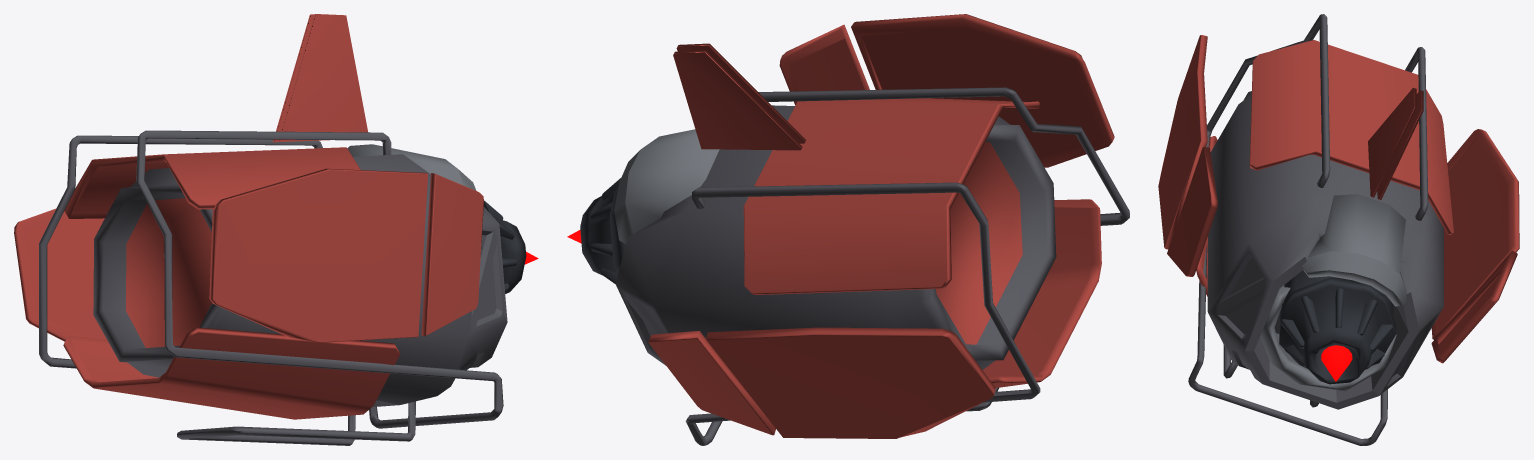
Rendered from drone.glb.
3 renders of one model, left to right at view 1: azimuth 30°, elevation 25°; view 2: azimuth 150°, elevation 25°; view 3: azimuth 270°, elevation 25°, orthographic. The views are drawn at different scales.
Parts seen in each view (by area): view 1: DroneBody, DroneWings; view 2: DroneBody, DroneWings; view 3: DroneBody, DroneWings.
Part boxes in pixels (x1,y1,x2,y2): DroneBody: [39, 14, 538, 445]; DroneWings: [14, 168, 483, 342]; DroneBody: [567, 43, 1129, 445]; DroneWings: [648, 14, 1114, 438]; DroneBody: [1188, 14, 1453, 445]; DroneWings: [1158, 35, 1519, 363].
Size of the model in its own units: 0.7584 by 0.618 by 0.5862.
